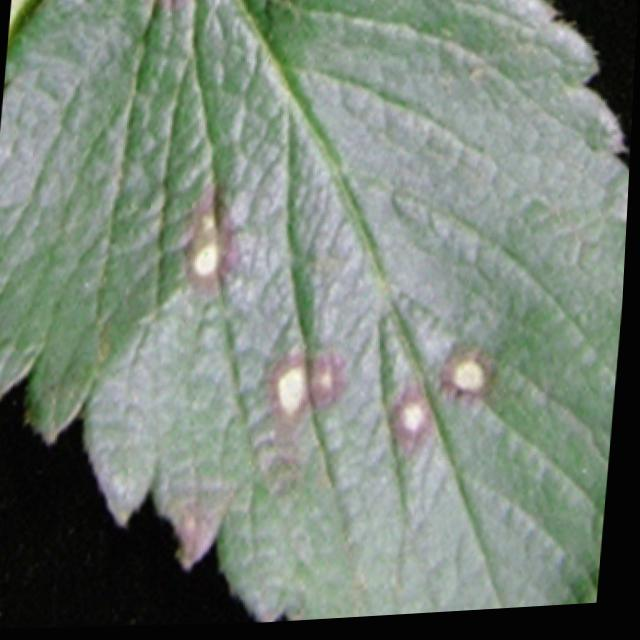Leaf Spot: (0, 0, 632, 626)
